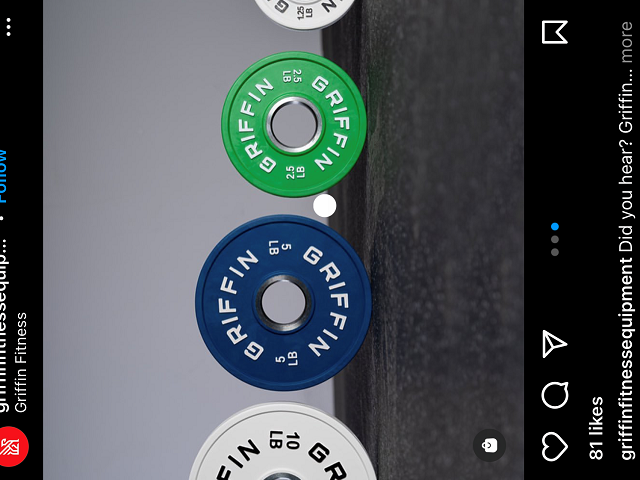weights: (193, 210, 374, 392), (218, 51, 369, 199)
